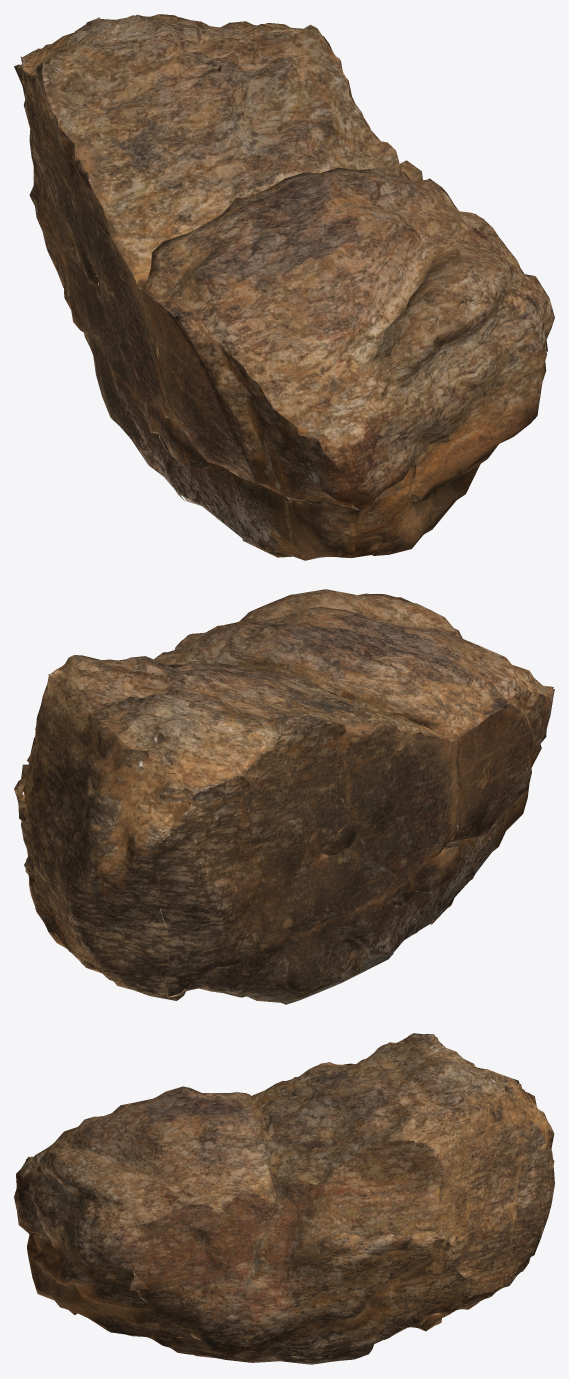
Rendered from namaqualand_boulder_06.glb.
3 views of the same model, one above another, from view 1: azimuth 30°, elevation 25°; view 2: azimuth 150°, elevation 25°; view 3: azimuth 270°, elevation 25° (orthographic). The views are drawn at different scales.
Visible parts, largest first — view 1: model; view 2: model; view 3: model.
Boxes of the visible parts, x1,y1,x2,y2 form: model: (14, 14, 554, 560); model: (14, 589, 554, 1004); model: (14, 1033, 554, 1364).
Size of the model in its own units: 0.6746 by 0.6518 by 1.21.
1 material, 1 textured.
